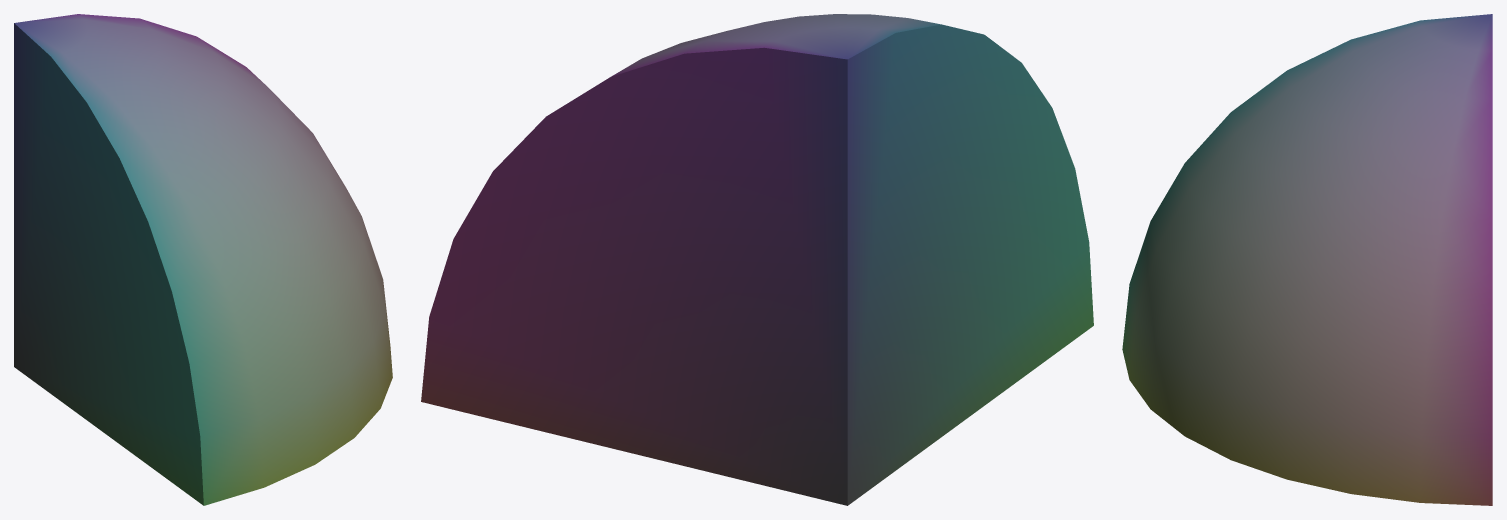
File: SM_ScalableCornerRounded.gltf
3 renders of one model, left to right at view 1: azimuth 30°, elevation 25°; view 2: azimuth 150°, elevation 25°; view 3: azimuth 270°, elevation 25°, orthographic. The views are drawn at different scales.
Visible parts, largest first — view 1: SM_ScalableCornerRounded; view 2: SM_ScalableCornerRounded; view 3: SM_ScalableCornerRounded.
Part boxes in pixels (box(x1,y1,x2,y2)): SM_ScalableCornerRounded: box(14, 14, 392, 505); SM_ScalableCornerRounded: box(421, 14, 1093, 505); SM_ScalableCornerRounded: box(1122, 14, 1492, 505).
Size of the model in its own units: 0.3 by 0.3 by 0.3.
